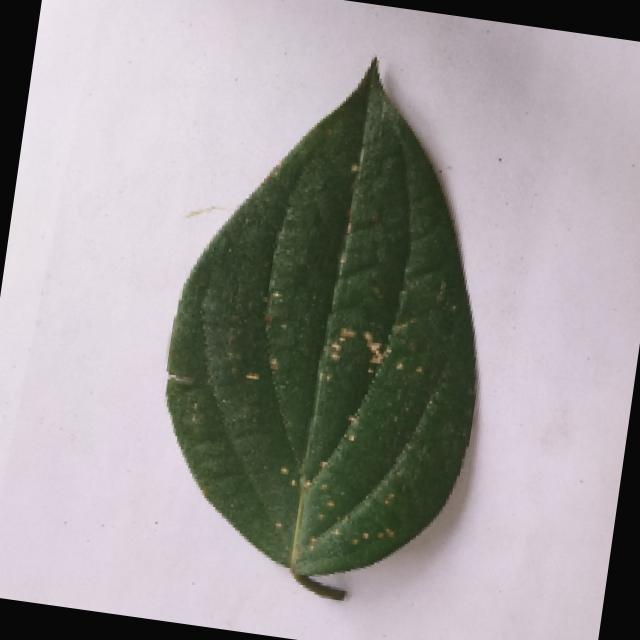pollu-disease: (126, 43, 536, 620)
